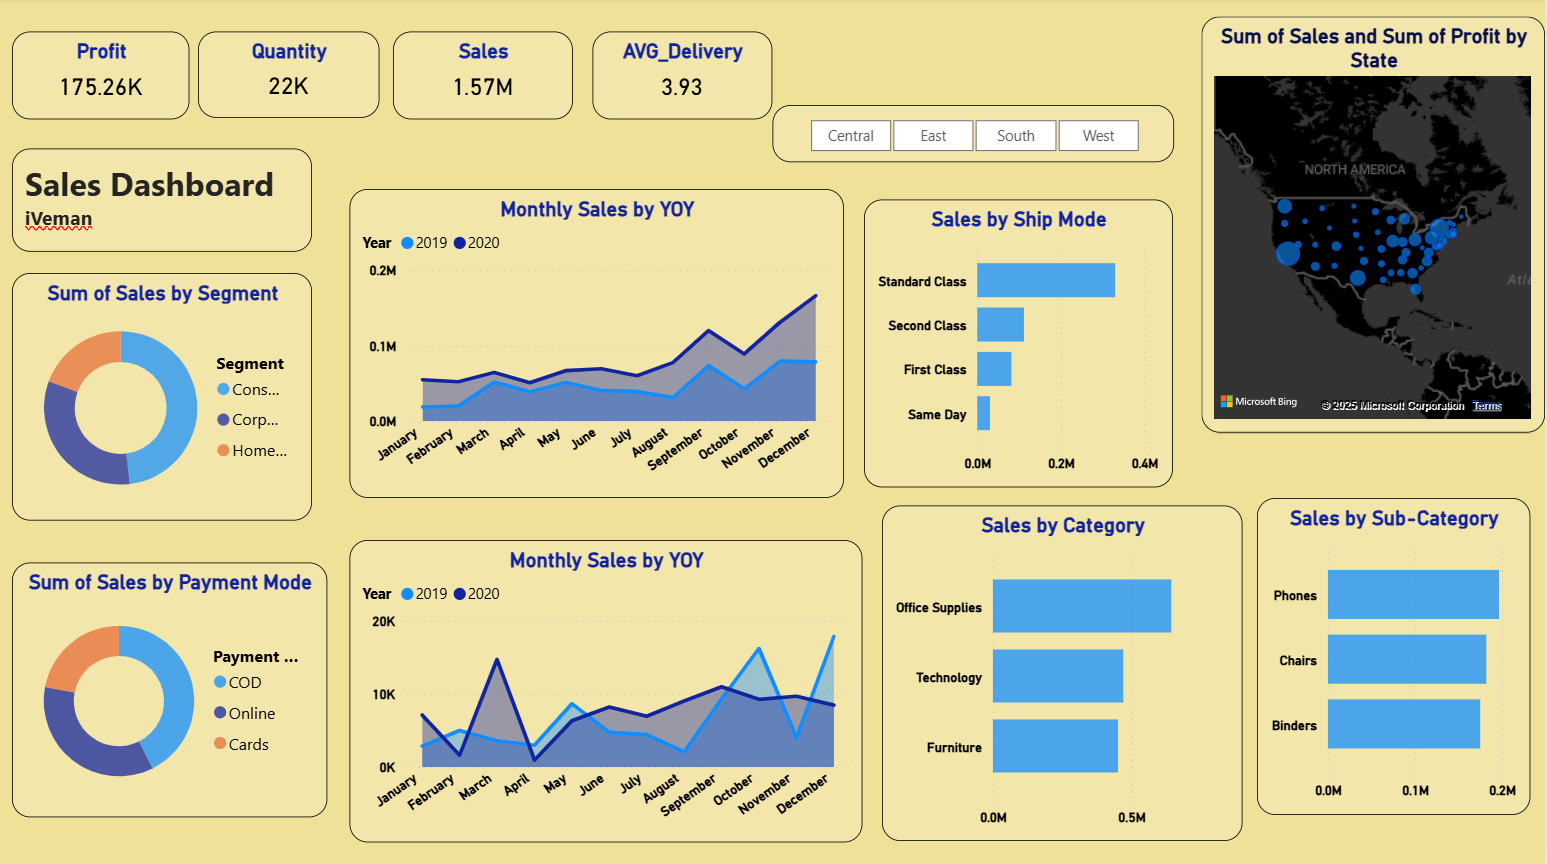

The dashboard page shown, as its layout file describes it:
{"tool":"powerbi","page":{"name":"Page 1","canvas":[1280,720],"ordinal":0},"visuals":[{"type":"clusteredBarChart","title":"Sales by Category","fields":{"Category":["SuperStore_Sales_Dataset.Category"],"Y":["Sum(SuperStore_Sales_Dataset.Sales)"]},"box":[731,420.7,298.3,277.6],"z":0},{"type":"clusteredBarChart","title":"Sales by Sub-Category","fields":{"Y":["Sum(SuperStore_Sales_Dataset.Sales)"],"Category":["SuperStore_Sales_Dataset.Sub-Category"]},"box":[1041.4,413.8,225.9,262.1],"z":1000},{"type":"clusteredBarChart","title":"Sales by Ship Mode","fields":{"Y":["Sum(SuperStore_Sales_Dataset.Sales)"],"Category":["SuperStore_Sales_Dataset.Ship Mode"]},"box":[717.2,167.2,255.2,237.9],"z":2000},{"type":"areaChart","title":"Monthly Sales by YOY","fields":{"Category":["SuperStore_Sales_Dataset.Order Date.Variation.Date Hierarchy.Month","SuperStore_Sales_Dataset.Order Date.Variation.Date Hierarchy.Day"],"Y":["Sum(SuperStore_Sales_Dataset.Sales)"],"Series":["SuperStore_Sales_Dataset.Order Date.Variation.Date Hierarchy.Year"]},"box":[291.4,158.6,408.6,255.2],"z":3000},{"type":"map","fields":{"Category":["SuperStore_Sales_Dataset.State"],"Size":["Sum(SuperStore_Sales_Dataset.Sales)"]},"box":[995.7,15.7,284.3,344.3],"z":4000},{"type":"donutChart","fields":{"Y":["Sum(SuperStore_Sales_Dataset.Sales)"],"Category":["SuperStore_Sales_Dataset.Segment"]},"box":[12.1,228.6,248.3,204.4],"z":5000},{"type":"donutChart","fields":{"Y":["Sum(SuperStore_Sales_Dataset.Sales)"],"Category":["SuperStore_Sales_Dataset.Payment Mode"]},"box":[12.1,467.9,260.4,210.5],"z":6000},{"type":"areaChart","title":"Monthly Sales by YOY","fields":{"Category":["SuperStore_Sales_Dataset.Order Date.Variation.Date Hierarchy.Month","SuperStore_Sales_Dataset.Order Date.Variation.Date Hierarchy.Day"],"Y":["Sum(SuperStore_Sales_Dataset.Profit)"],"Series":["SuperStore_Sales_Dataset.Order Date.Variation.Date Hierarchy.Year"]},"box":[291.4,448.3,424.1,250],"z":7000},{"type":"slicer","fields":{"Values":["SuperStore_Sales_Dataset.Region"]},"box":[641.1,89.3,332.3,47.1],"z":8000},{"type":"textbox","box":[12.4,125.2,248,85.6],"z":9000},{"type":"card","title":"Sales","fields":{"Values":["Sum(SuperStore_Sales_Dataset.Sales)"]},"box":[327.1,28.8,148.4,72.7],"z":10000},{"type":"card","title":"Profit","fields":{"Values":["Sum(SuperStore_Sales_Dataset.Profit)"]},"box":[12.1,28.8,146.9,72.7],"z":11000},{"type":"card","title":"Quantity","fields":{"Values":["Sum(SuperStore_Sales_Dataset.Quantity)"]},"box":[166.6,28.8,149.9,71.2],"z":12000},{"type":"card","title":"AVG_Delivery","fields":{"Values":["Avg(SuperStore_Sales_Dataset.AvgDelivery)"]},"box":[492.1,28.8,148.4,72.7],"z":12001}]}

Visuals, with their boxes in screenshot pixels (x1, y1, x2, y2), scaled from the page's 1280x720 canvas onto the 1547x864 screenshot:
"Sales by Category" clusteredBarChart: box=[883, 505, 1244, 838]
"Sales by Sub-Category" clusteredBarChart: box=[1259, 497, 1532, 811]
"Sales by Ship Mode" clusteredBarChart: box=[867, 201, 1175, 486]
"Monthly Sales by YOY" areaChart: box=[352, 190, 846, 497]
map - SuperStore_Sales_Dataset.State x Sum(SuperStore_Sales_Dataset.Sales): box=[1203, 19, 1546, 432]
donutChart - Sum(SuperStore_Sales_Dataset.Sales) x SuperStore_Sales_Dataset.Segment: box=[15, 274, 315, 520]
donutChart - Sum(SuperStore_Sales_Dataset.Sales) x SuperStore_Sales_Dataset.Payment Mode: box=[15, 561, 329, 814]
"Monthly Sales by YOY" areaChart: box=[352, 538, 865, 838]
slicer - SuperStore_Sales_Dataset.Region: box=[775, 107, 1176, 164]
textbox: box=[15, 150, 315, 253]
"Sales" card: box=[395, 35, 575, 122]
"Profit" card: box=[15, 35, 192, 122]
"Quantity" card: box=[201, 35, 383, 120]
"AVG_Delivery" card: box=[595, 35, 774, 122]
